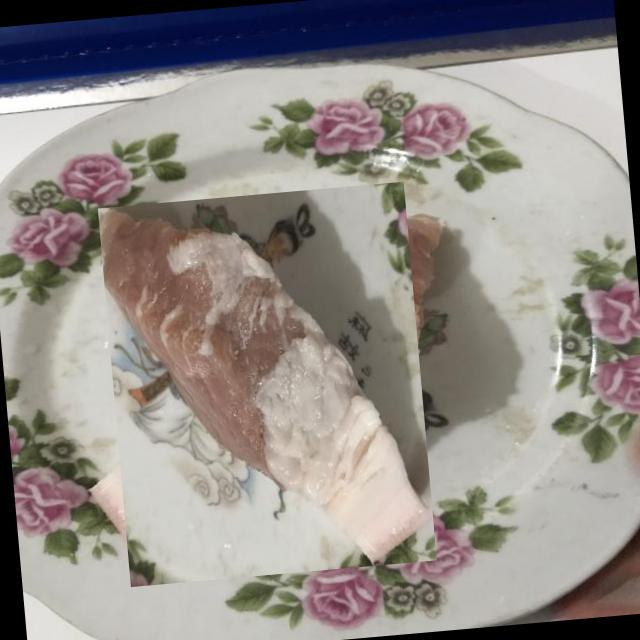chicken: (81, 198, 454, 570)
